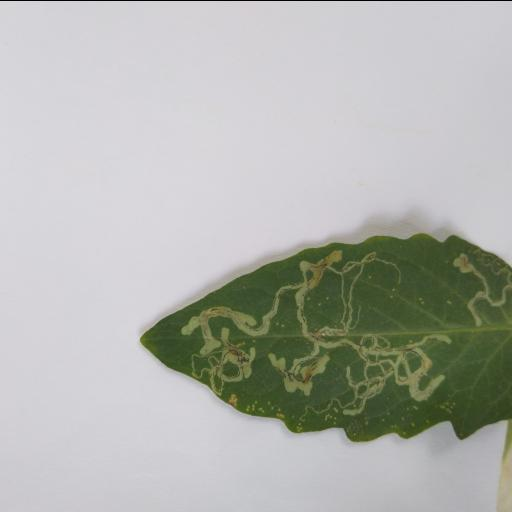Leaf Miner: (138, 228, 507, 442)
